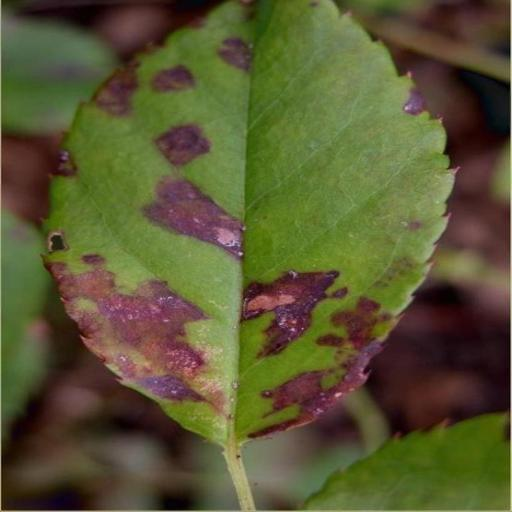downy_mildew: (47, 0, 453, 444)
healthy_leaf: (305, 415, 510, 510), (2, 14, 116, 133), (2, 211, 47, 427)
